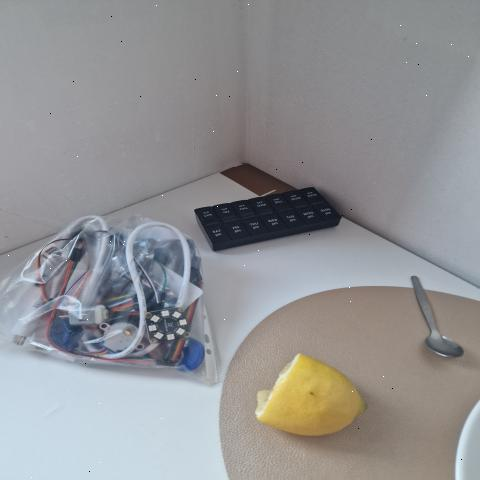PillBox: (181, 168, 369, 262)
